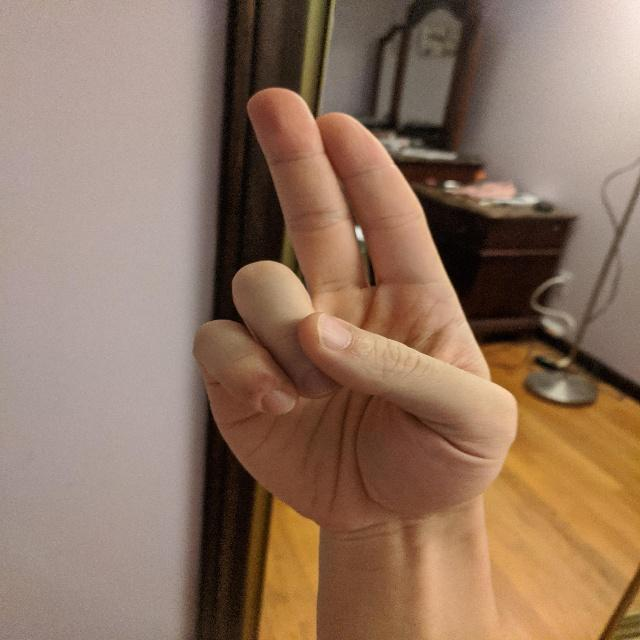U: (184, 83, 529, 535)
